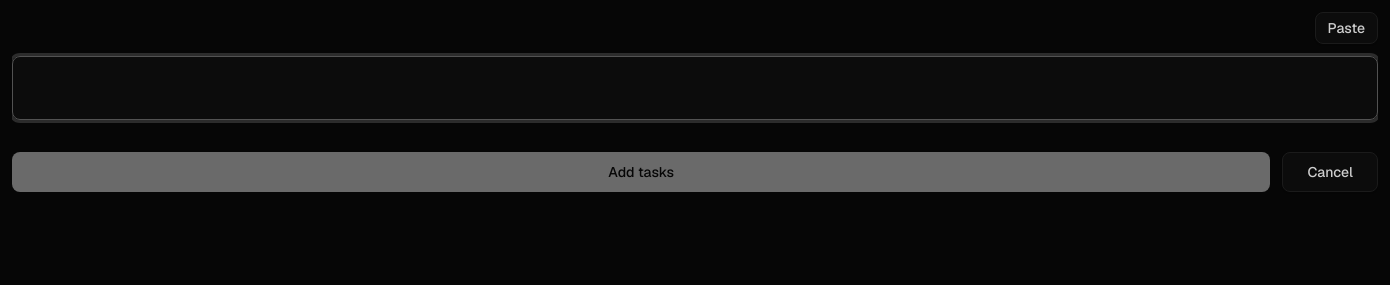
CaptureForm › shows error message on paste failure
This screenshot has width=1390, height=285.
Click the button "Paste": (1346, 28) [1315, 12, 1378, 44]
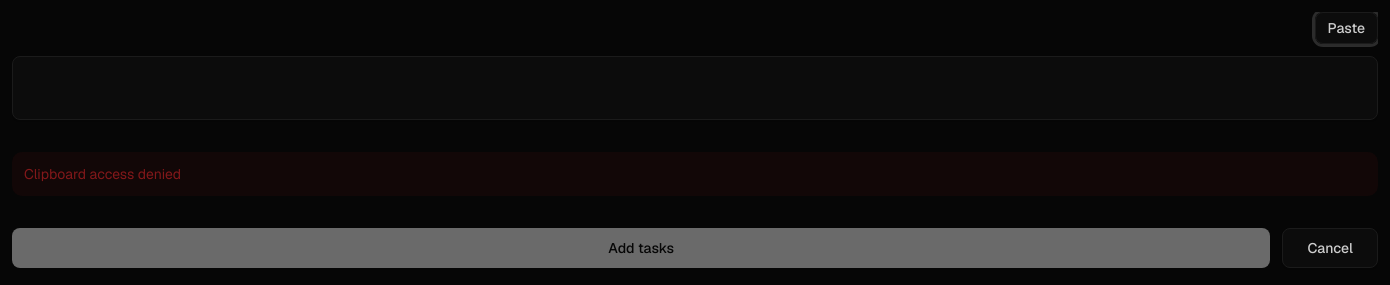
Result: the text "Clipboard access denied" is shown at [12, 152, 1378, 196]
